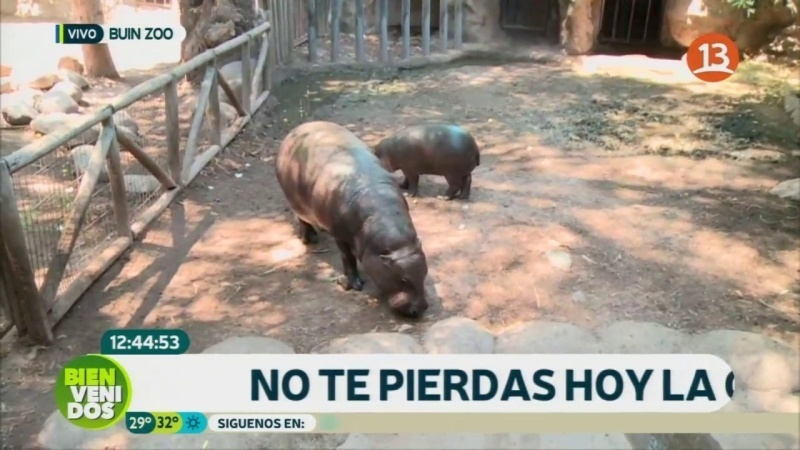hipopotamo: (264, 110, 453, 329), (374, 112, 500, 212)
